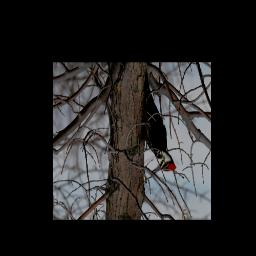Woodpecker: (140, 66, 176, 175)
